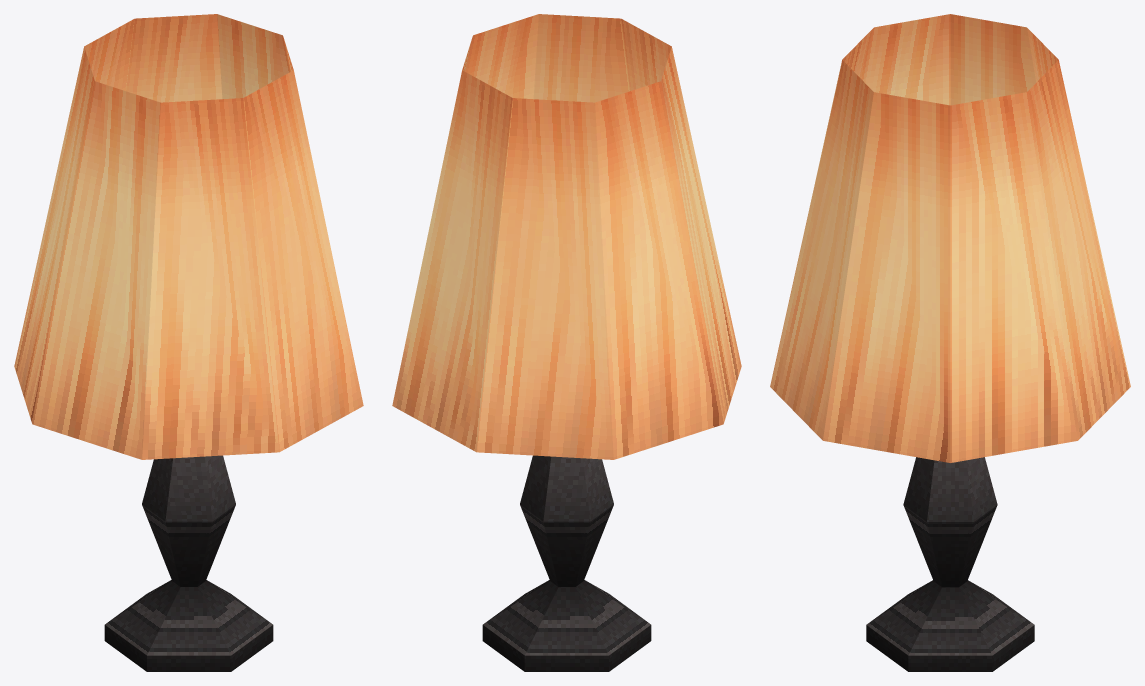
The model's file is lamp.glb.
3 views of the same model, side by side, from view 1: azimuth 30°, elevation 25°; view 2: azimuth 150°, elevation 25°; view 3: azimuth 270°, elevation 25° (orthographic).
Parts seen in each view (by area): view 1: lamp; view 2: lamp; view 3: lamp.
Part boxes in pixels (x1,y1,x2,y2): lamp: (14,14,363,671); lamp: (392,14,741,671); lamp: (770,14,1130,671).
Bounding box in the file's own units: 0.3 × 0.5332 × 0.3.
Materials: 2 (2 with a texture image).
